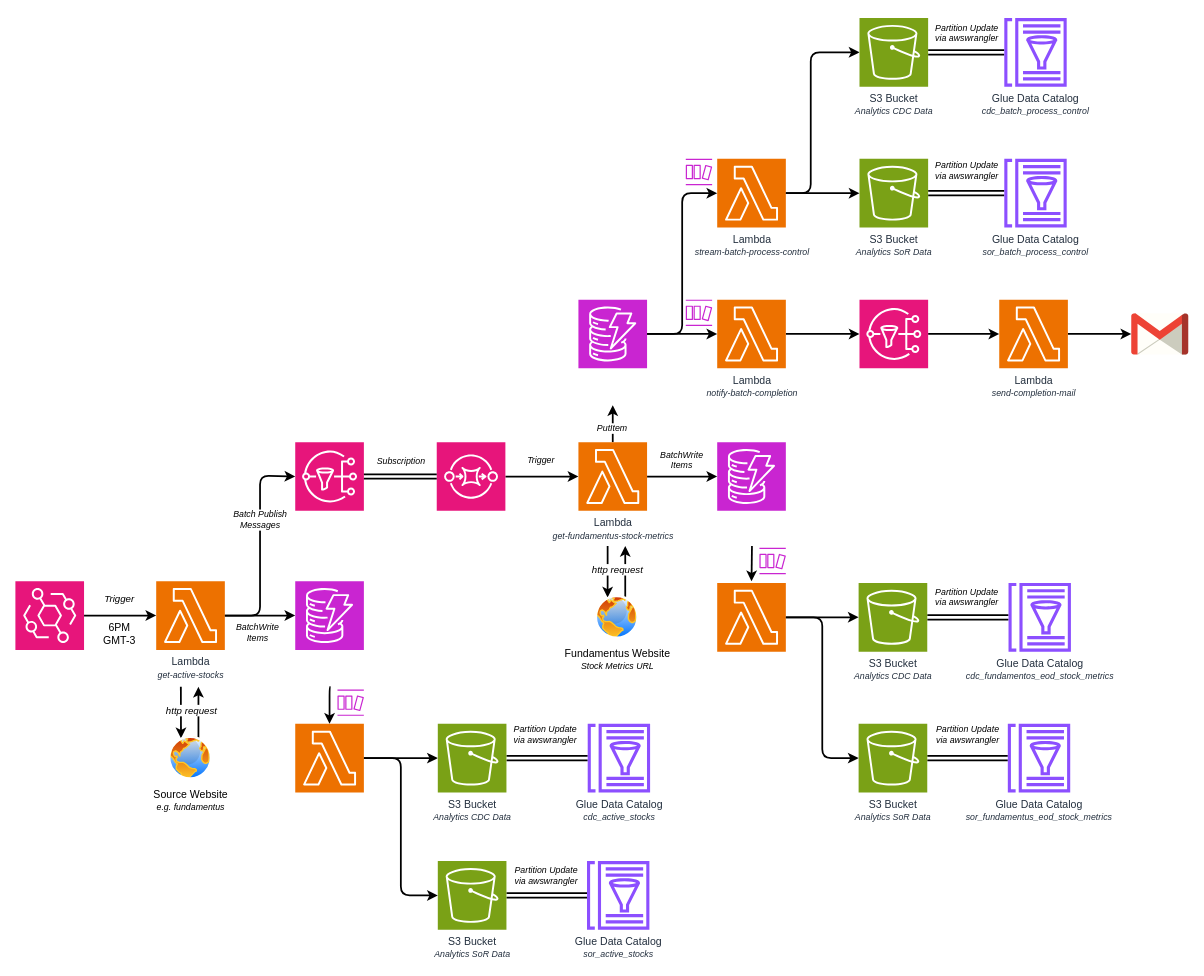
The diagram is 1204 pixels wide and 976 high, and some of its shapes have lost their labels. Here are the shapes that lost their labels. From the top down, the centre of each, then its label:
(x=612, y=333): DynamoDB Table batch_process_control
(x=893, y=333): SNS Topic batch-processes-completion
(x=329, y=476): SNS Topic active-stocks
(x=470, y=476): SQS Queue fundamentus-stock-metrics
(x=751, y=476): DynamoDB Table fundamentus_eod_stock_metrics
(x=49, y=615): Eventbridge
(x=329, y=615): DynamoDB Table active_stocks
(x=751, y=617): Lambda stream-fundamentus-stock-metrics
(x=329, y=757): Lambda stream-active-stocks
